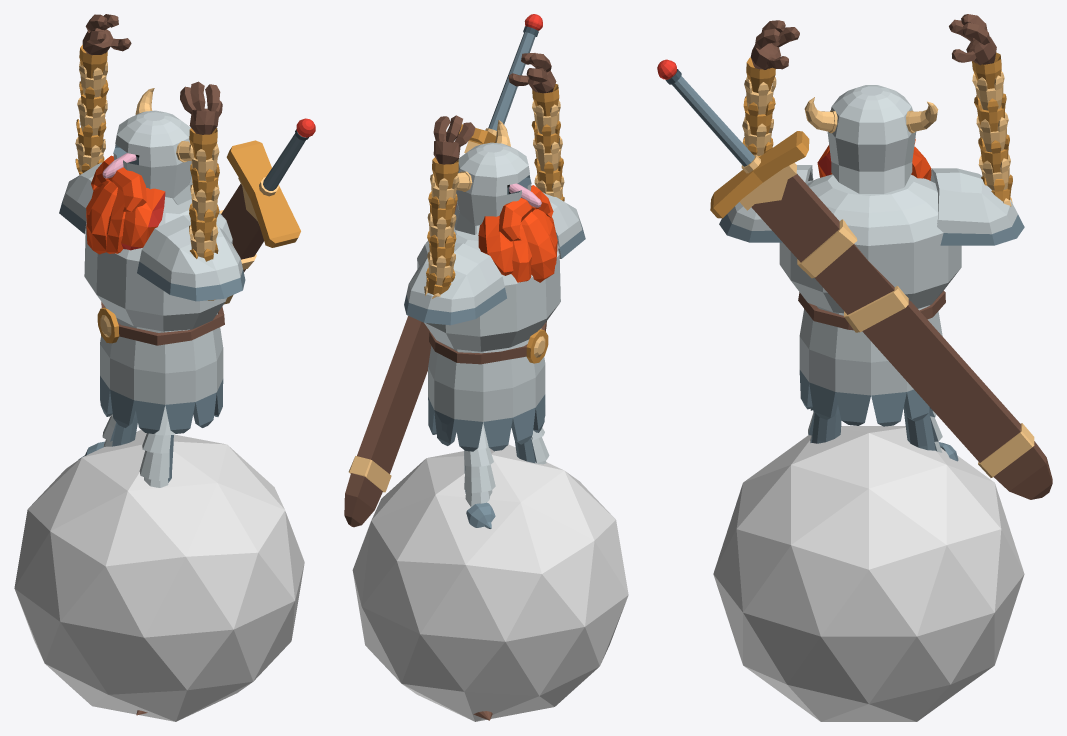
Rendered from Level2_knight.fbx.
3 views of the same model, side by side, from view 1: azimuth 30°, elevation 25°; view 2: azimuth 150°, elevation 25°; view 3: azimuth 270°, elevation 25° (orthographic). The views are drawn at different scales.
Visible parts, largest first — view 1: Icosphere, group519165365; view 2: group519165365, Icosphere; view 3: group519165365, Icosphere.
Part boxes in pixels (box(x1,y1,x2,y2)): Icosphere: box(14, 429, 304, 721); group519165365: box(59, 14, 315, 715); group519165365: box(344, 14, 585, 720); Icosphere: box(352, 444, 628, 721); group519165365: box(657, 14, 1052, 499); Icosphere: box(713, 426, 1024, 721).
Size of the model in its own units: 190 by 493 by 254.
